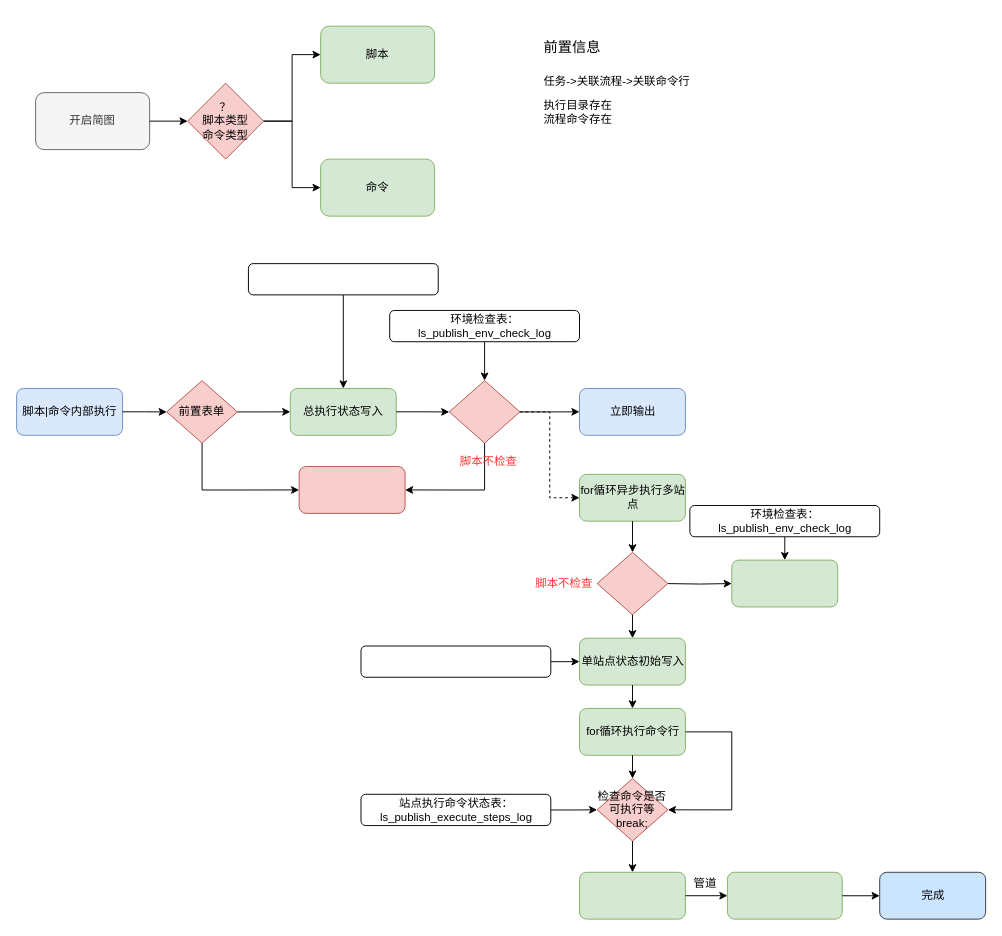
The diagram is 1002 pixels wide and 936 high, and some of its shapes have lost their labels. Here are the shapes that lost their labels. From the top down, the centre of each, then its label:
At [342,279]: "流水记录表：ls_publish_task_flow_excute_log".
At [484,411]: "检查exeute_path".
At [351,489]: "终止".
At [632,583]: "检查命令是否包含git".
At [784,583]: "env写入 git clone".
At [455,661]: "站点执行状态表：ls_publish_task_flow_web_log".
At [632,895]: "更新单个站点总状态".
At [784,895]: "协程同步更新任务总数量".
